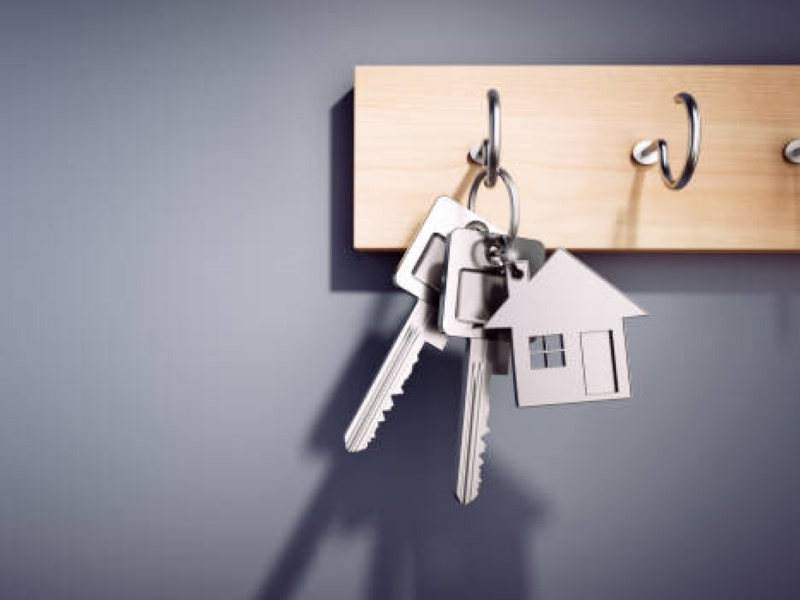key: (337, 193, 544, 508)
